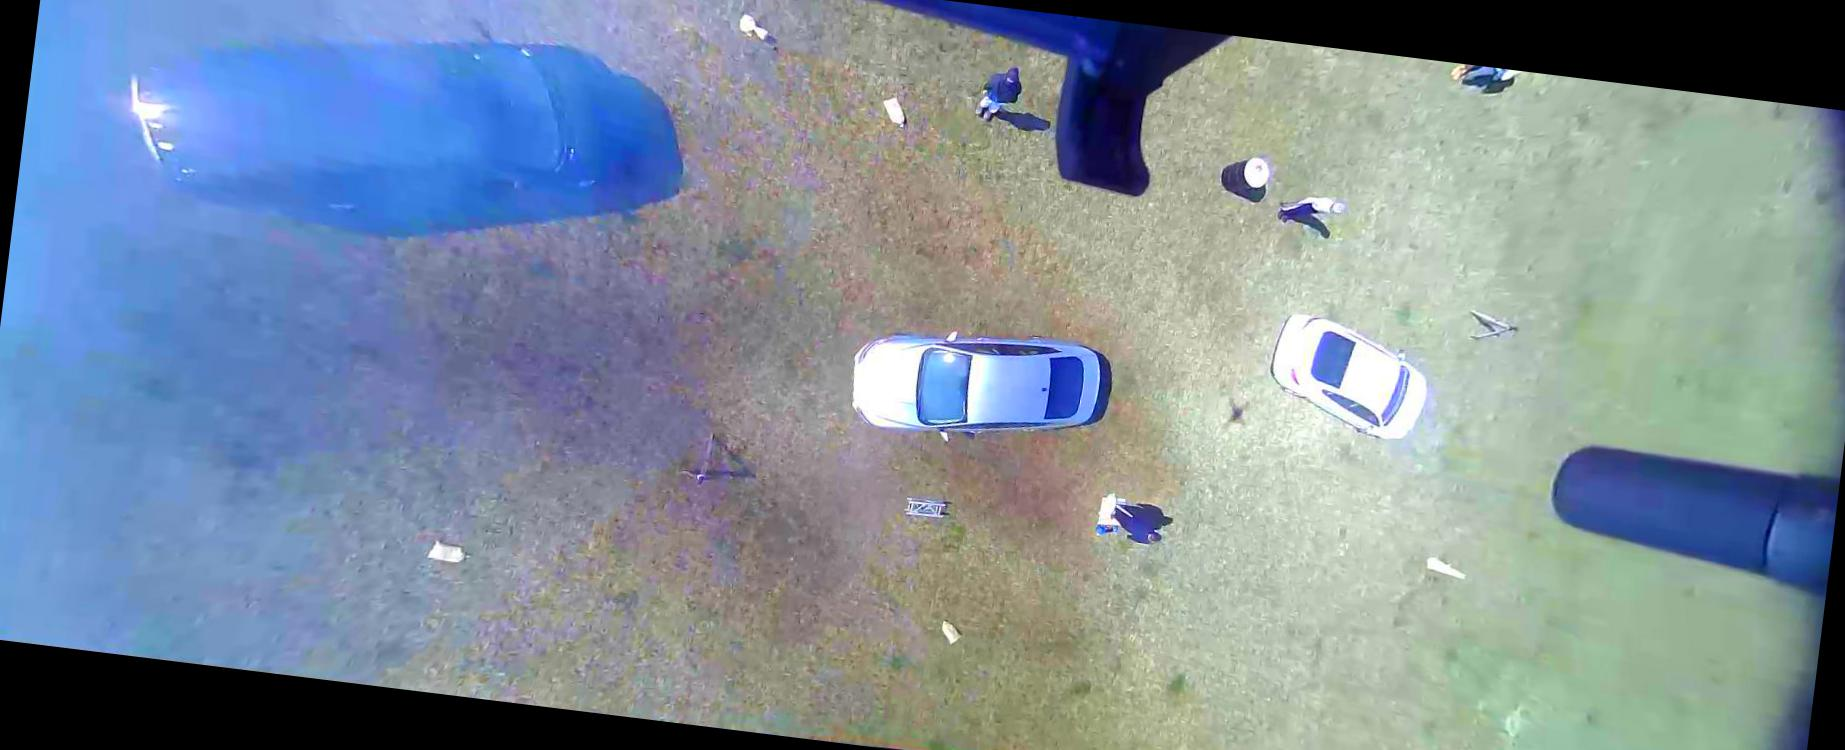vehicle: (112, 0, 655, 258), (842, 313, 1106, 459), (1264, 308, 1436, 445)
